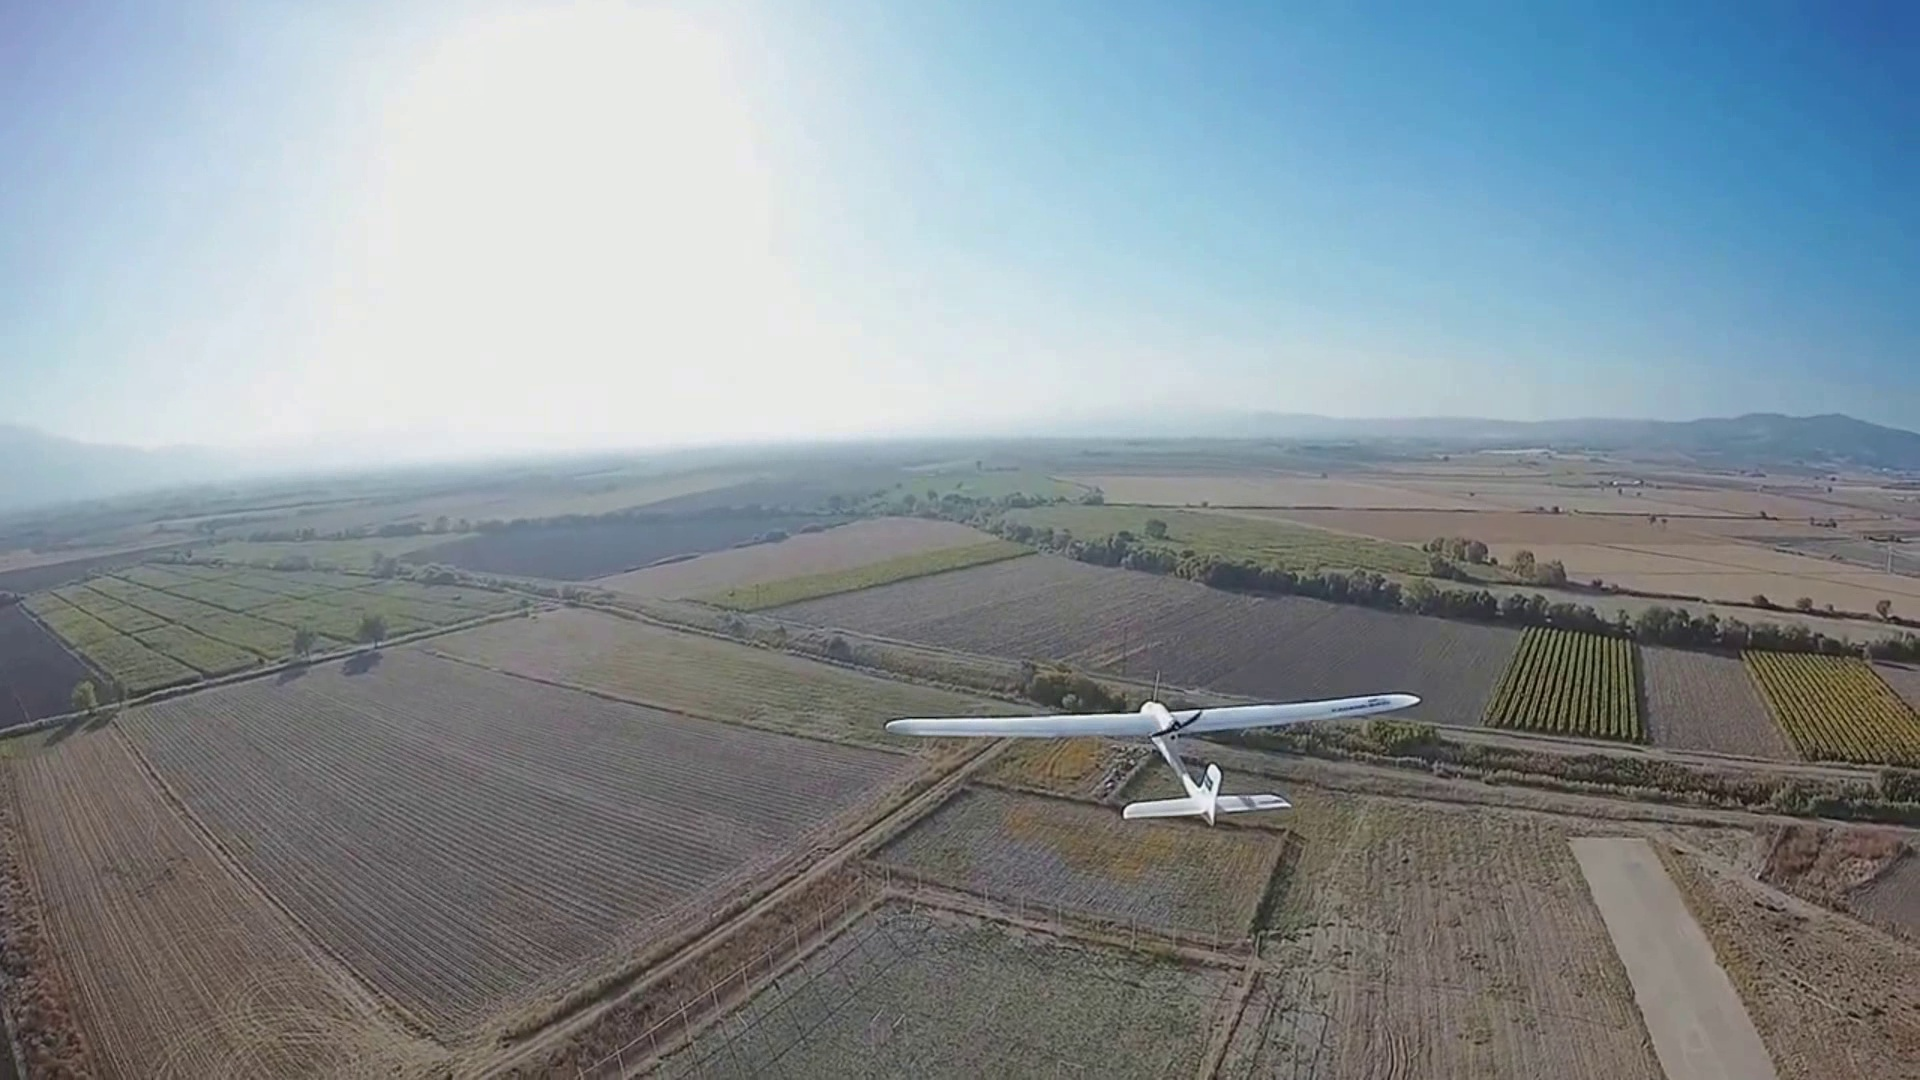airplane: (881, 684, 1420, 825)
